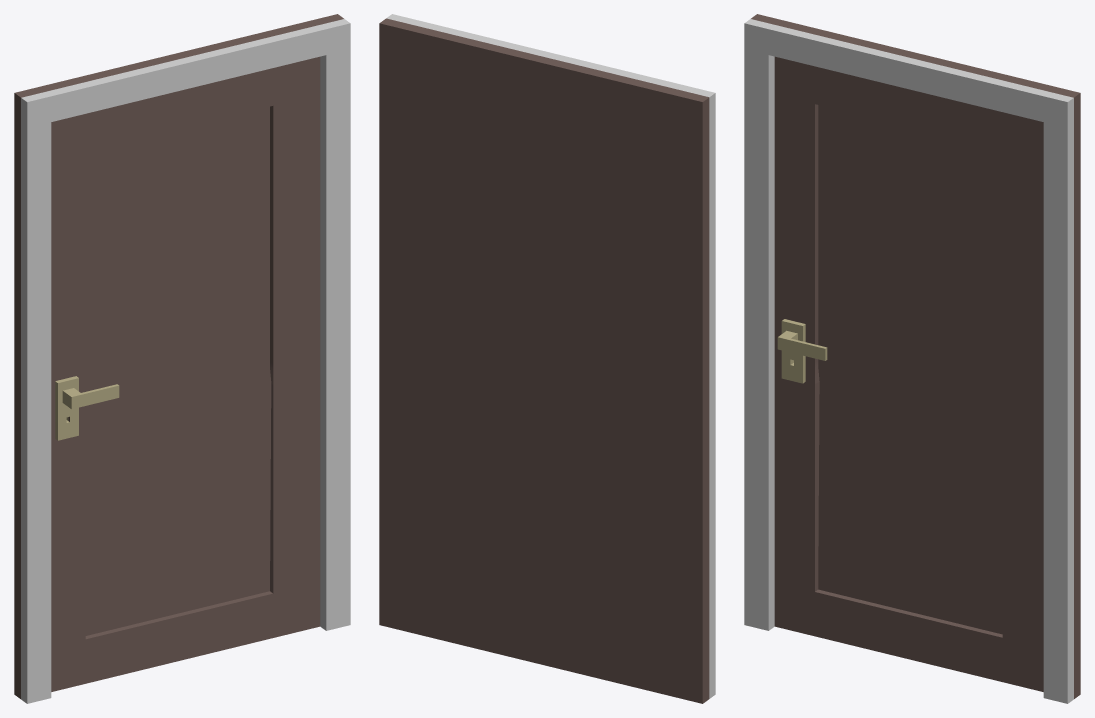
File: porte.fbx
3 views of the same model, side by side, from view 1: azimuth 30°, elevation 25°; view 2: azimuth 150°, elevation 25°; view 3: azimuth 330°, elevation 25° (orthographic).
Visible parts, largest first — view 1: porte; view 2: porte; view 3: porte.
Boxes of the visible parts, x1,y1,x2,y2 form: porte: (14,14,350,703); porte: (379,14,715,703); porte: (744,14,1080,703).
Bounding box in the file's own units: 6.1 × 10.85 × 0.5975.
